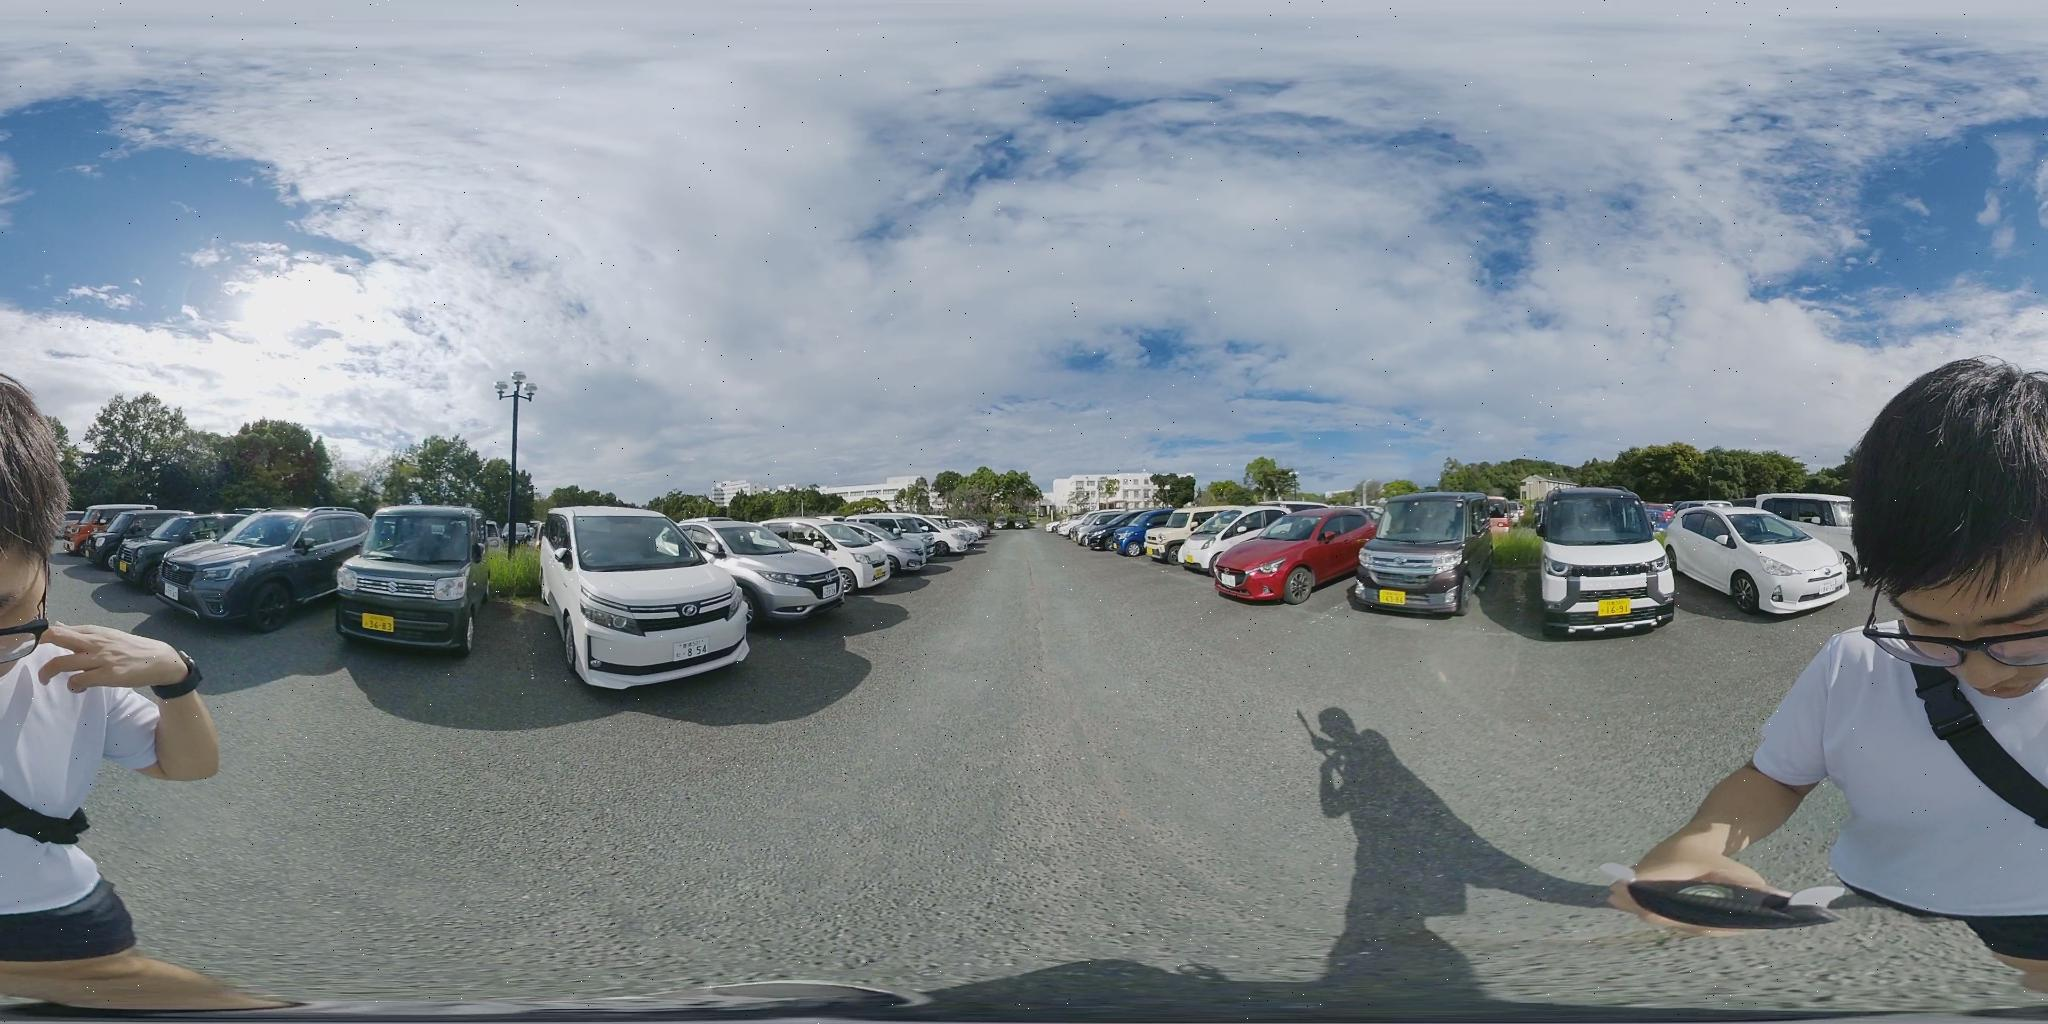car: (534, 507, 754, 687), (140, 512, 379, 633), (340, 502, 488, 654), (1665, 504, 1855, 615), (677, 520, 859, 622), (1196, 508, 1383, 603), (788, 519, 925, 583), (99, 512, 229, 579), (1149, 509, 1276, 569), (71, 505, 185, 560), (1753, 492, 1859, 547), (842, 512, 947, 564), (1091, 512, 1173, 555)
